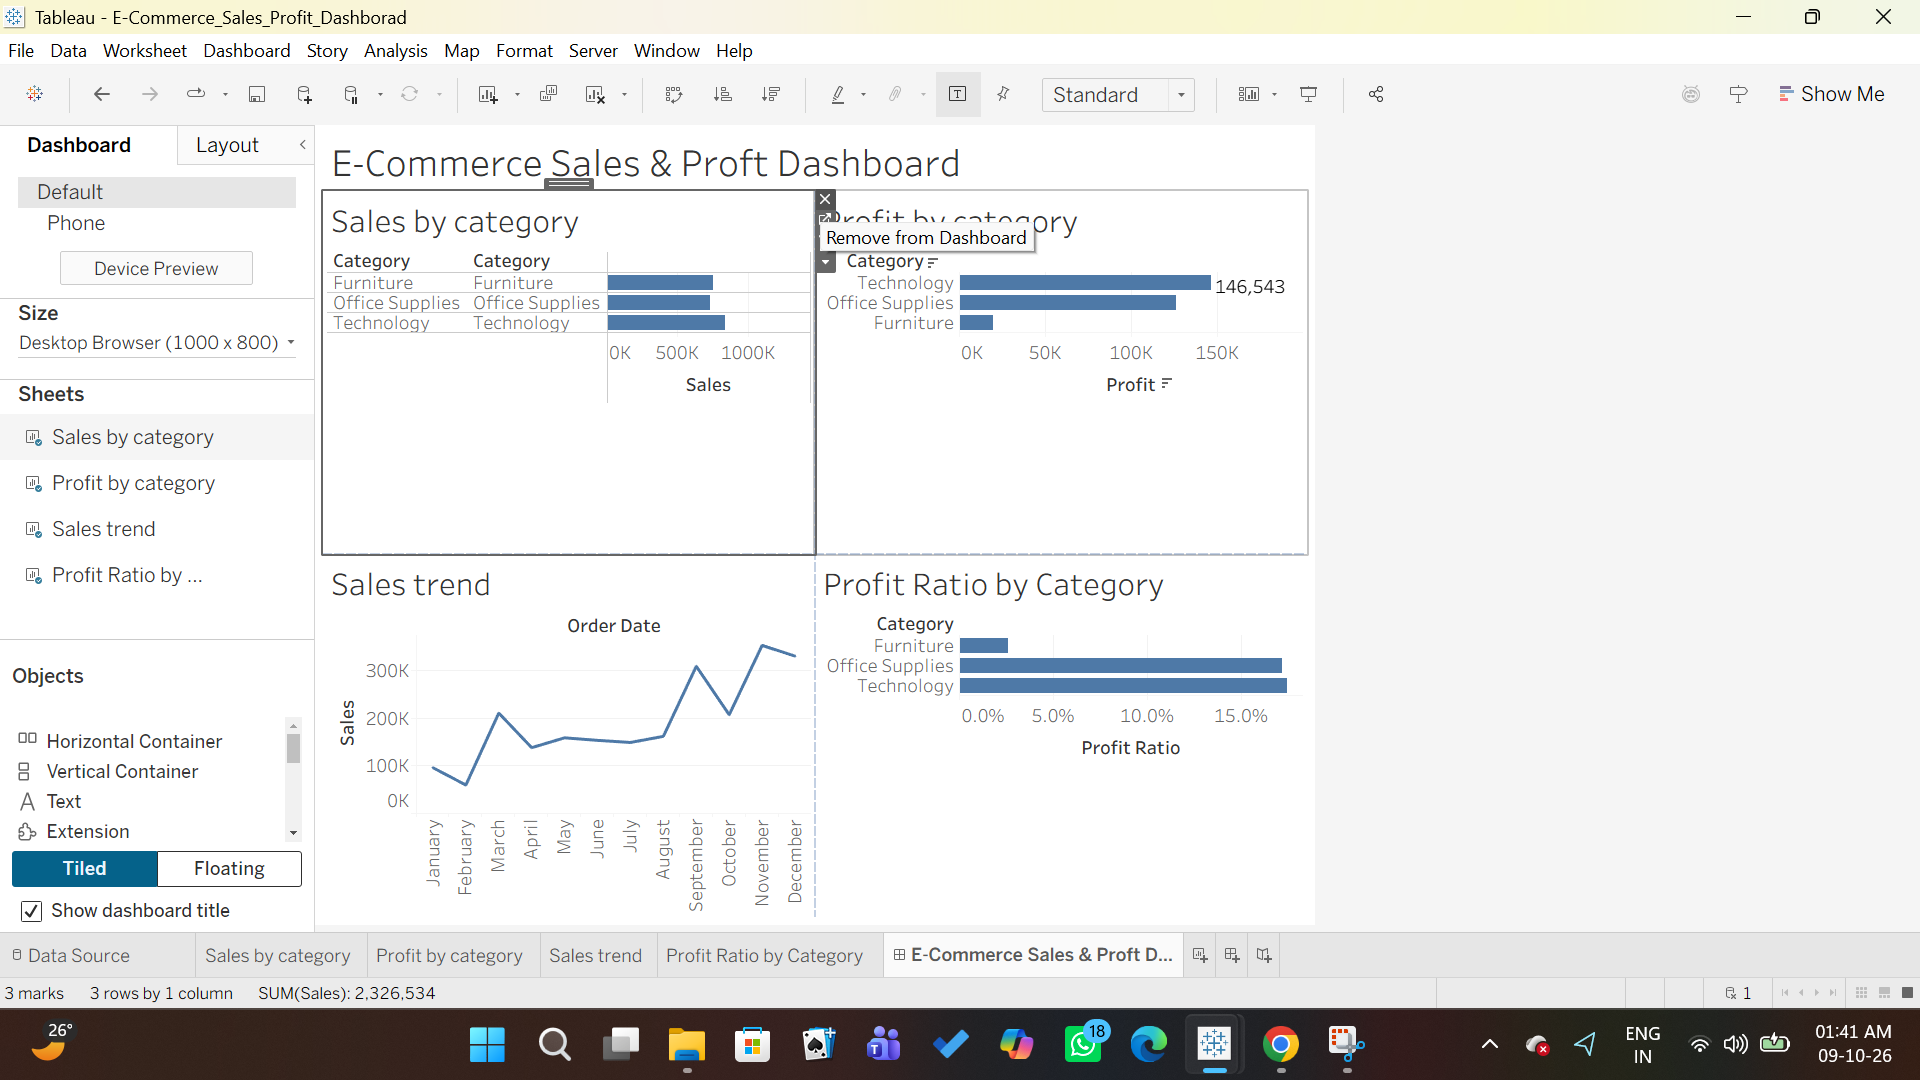

The page's visual inventory and layout, read from the dashboard file:
{"tool":"tableau","page":{"name":"E-Commerce Sales & Proft Dashboard","canvas":[1000,800],"ordinal":0},"visuals":[{"type":"title","box":[8,8,984,58]},{"type":"worksheet","title":"Sales by category","mark":"Automatic","rows":["Category","Category"],"cols":["Sales"],"box":[8,66,492,363]},{"type":"worksheet","title":"Profit by category","mark":"Automatic","rows":["Category"],"cols":["Profit"],"box":[500,66,492,363]},{"type":"worksheet","title":"Sales trend","mark":"Automatic","rows":["Sales"],"cols":["Order Date"],"box":[8,429,492,363]},{"type":"worksheet","title":"Profit Ratio by Category","mark":"Automatic","rows":["Category"],"cols":["Calculation_1368249927221915648"],"box":[500,429,492,363]}]}

Visuals, with their boxes on the page's 1000x800 design canvas (x1, y1, x2, y2). These are canvas units, not pixel positions in the 1920x1080 screenshot, which may show the page scaled, cropped or inside an application window:
title: 8, 8, 992, 66
"Sales by category" worksheet: 8, 66, 500, 429
"Profit by category" worksheet: 500, 66, 992, 429
"Sales trend" worksheet: 8, 429, 500, 792
"Profit Ratio by Category" worksheet: 500, 429, 992, 792
